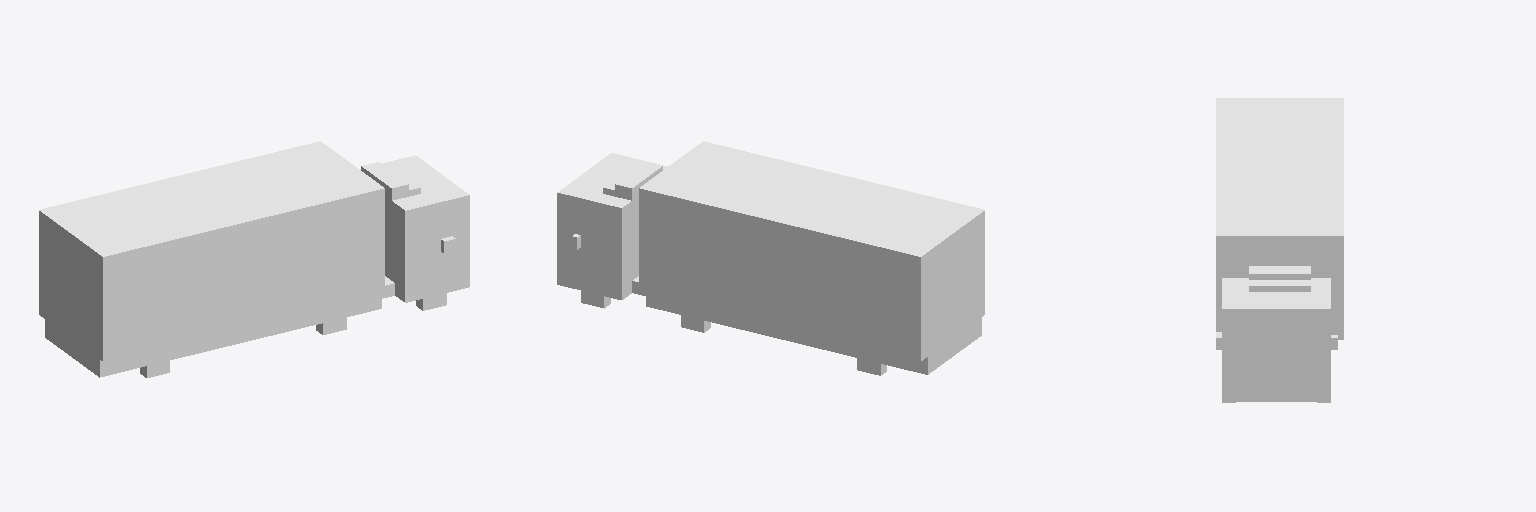
Rendered from truck.obj.
3 renders of one model, left to right at view 1: azimuth 30°, elevation 25°; view 2: azimuth 150°, elevation 25°; view 3: azimuth 270°, elevation 25°, orthographic.
Parts seen in each view (by area): view 1: object 1; view 2: object 1; view 3: object 1.
Part boxes in pixels (x1,y1,x2,y2): object 1: (39,141,469,377); object 1: (557,141,984,375); object 1: (1216,98,1343,402).
Size of the model in its own units: 6.3 by 2.2 by 1.9.